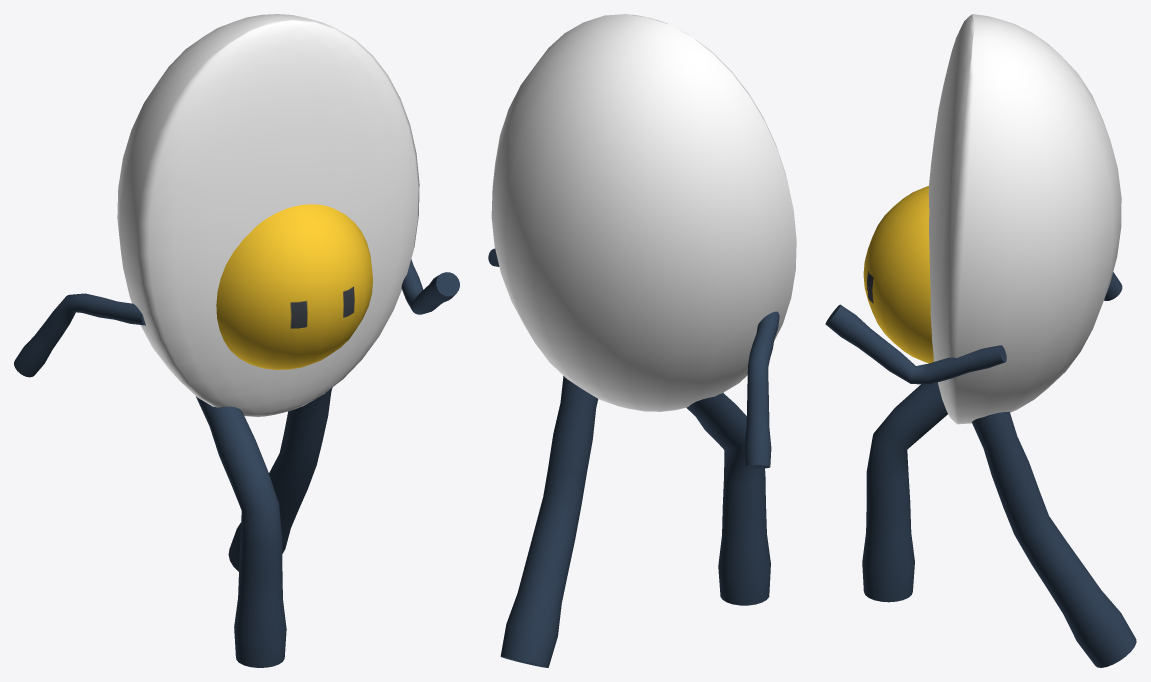
The model's file is rigged egg.fbx.
The picture shows the model from 3 angles, left to right: view 1: azimuth 30°, elevation 25°; view 2: azimuth 150°, elevation 25°; view 3: azimuth 270°, elevation 25°; orthographic projection.
Parts seen in each view (by area): view 1: pSphere4; view 2: pSphere4; view 3: pSphere4.
Boxes of the visible parts, x1,y1,x2,y2 form: pSphere4: [14, 14, 459, 667]; pSphere4: [488, 14, 796, 667]; pSphere4: [825, 14, 1136, 667].
Size of the model in its own units: 2.35 by 4.13 by 1.9.
1 material, 1 textured.
